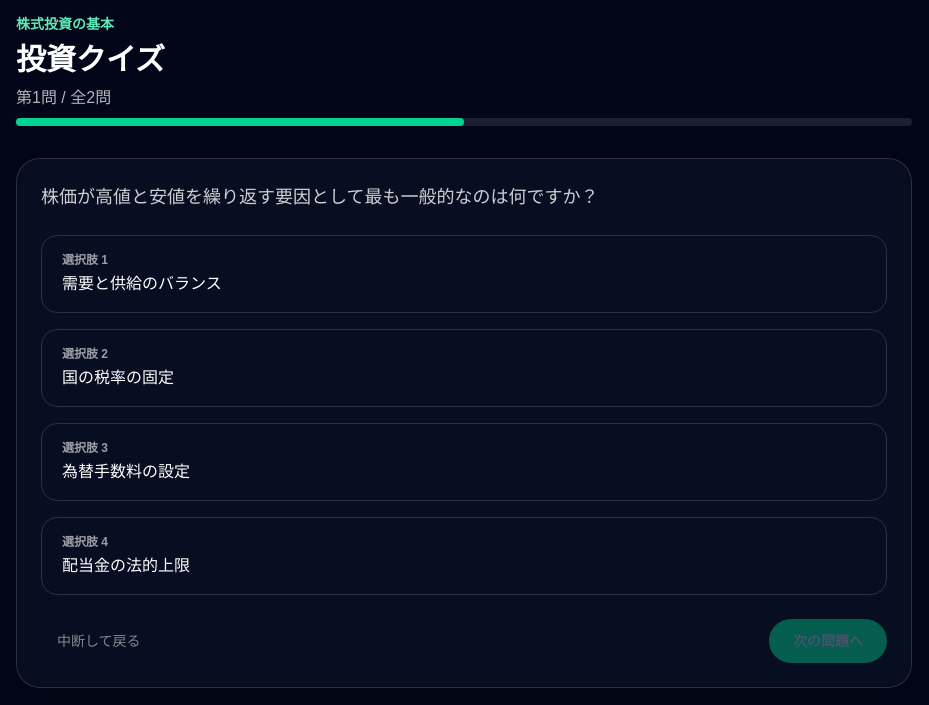
Test case: Quiz page › allows answering a question and moving to next
What coordinates should you click on to do the following:
click the button "選択肢 1 需要と供給のバランス"
I would click on:
 (82, 260)
Its box is 41,235 -> 887,313.
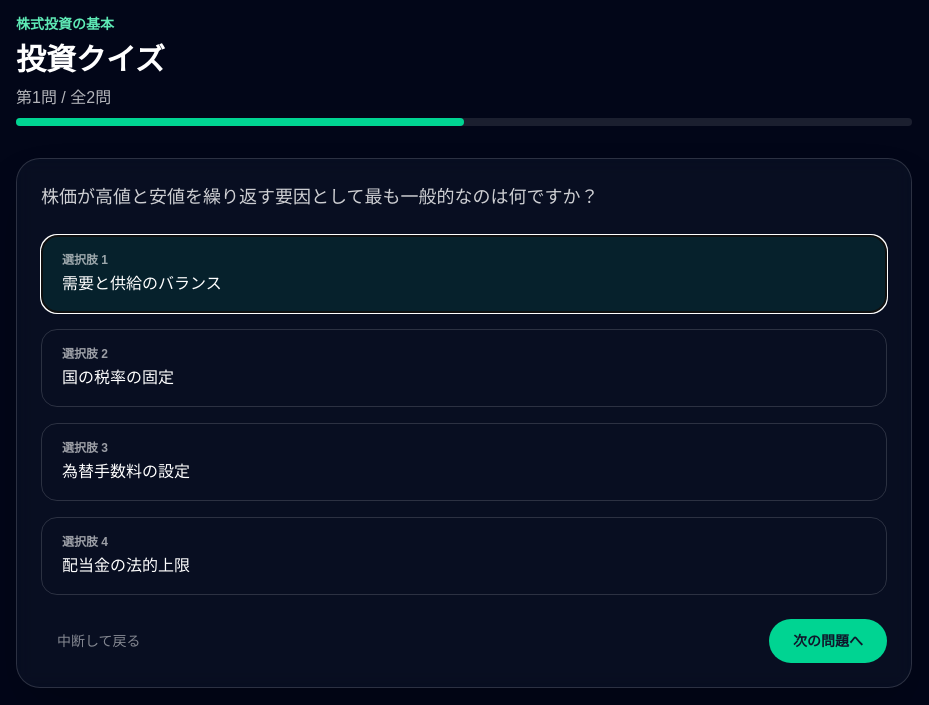
What coordinates should you click on to do the following:
click the button "次の問題へ"
I would click on:
 (828, 641)
Its box is 769,619 -> 887,663.
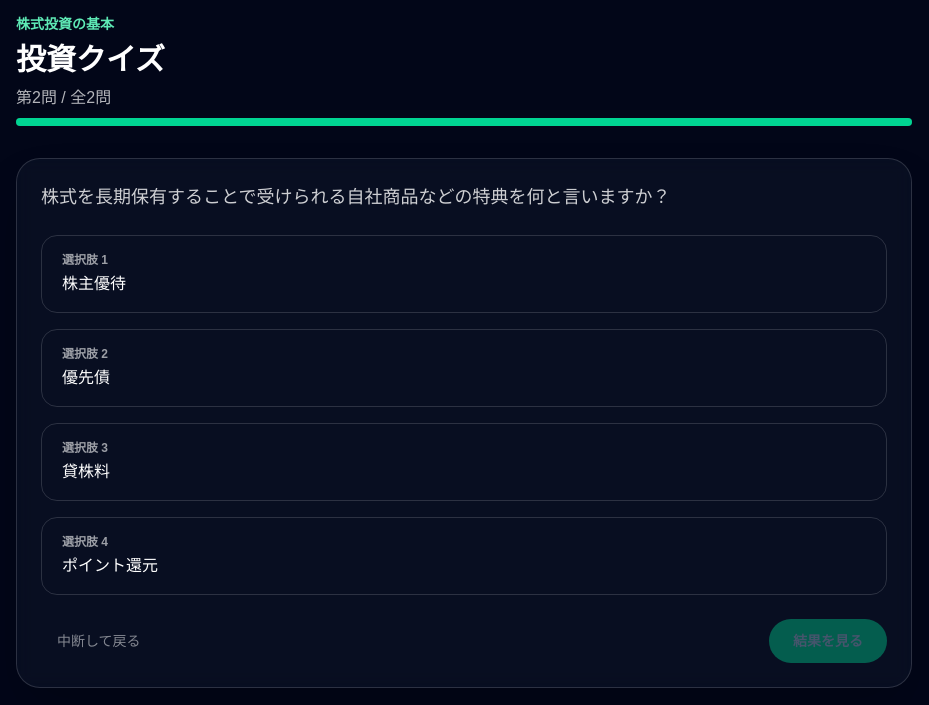
expect the text "第2問 / 全2問" is shown: met, box 16,89 -> 111,106
